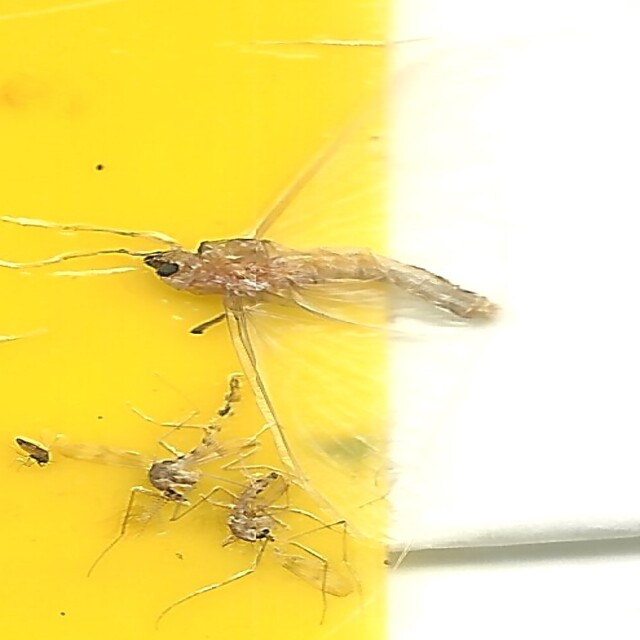Ephemeroptera: (129, 84, 511, 469)
Nematocera: (134, 371, 252, 500), (219, 468, 297, 556)
